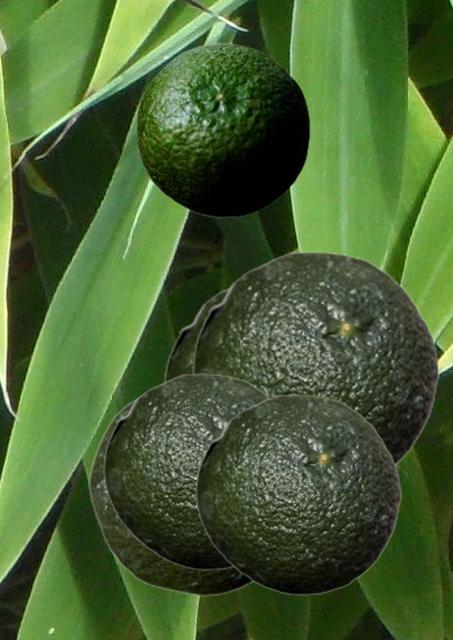calamansi: (192, 251, 439, 465), (195, 394, 401, 594), (88, 385, 254, 595), (103, 373, 271, 569), (135, 42, 309, 217), (163, 283, 229, 381)
